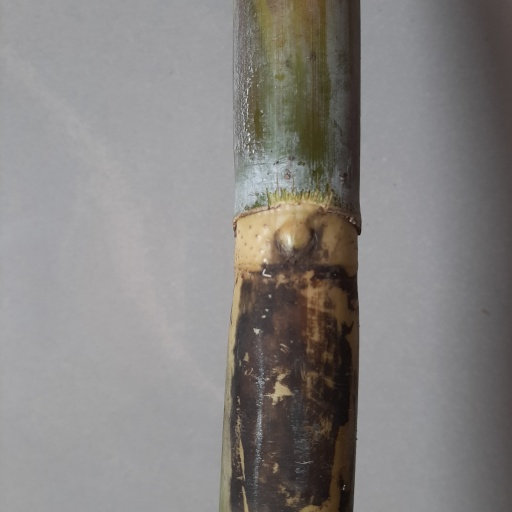Bud: (273, 221, 319, 266)
